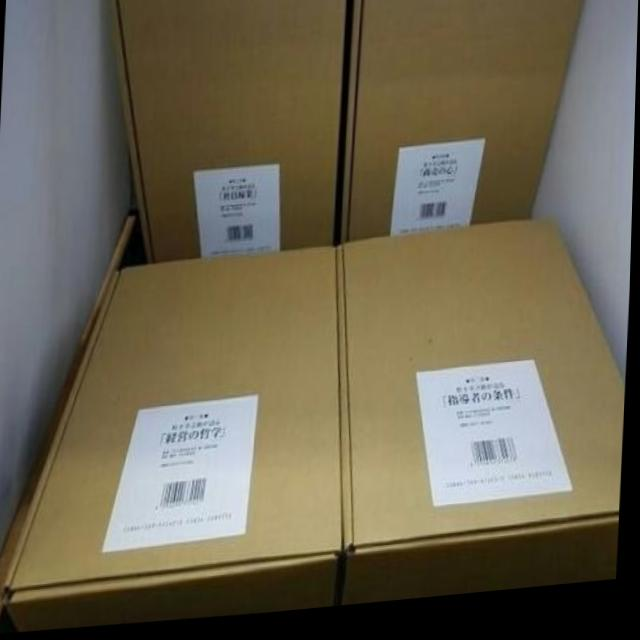box: (3, 253, 345, 633), (337, 226, 626, 561), (109, 0, 346, 269), (343, 0, 587, 249)
